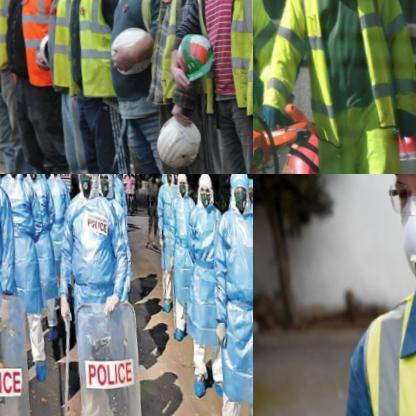vest: (261, 0, 415, 154), (46, 192, 141, 415), (340, 280, 415, 415), (203, 210, 252, 412), (143, 0, 226, 111), (0, 174, 32, 415), (189, 0, 252, 122), (178, 202, 230, 348), (56, 0, 127, 103), (0, 174, 49, 318), (0, 0, 64, 89), (17, 176, 58, 304), (162, 194, 203, 306), (152, 185, 184, 272), (42, 0, 72, 89), (42, 177, 73, 261), (0, 0, 23, 72)
